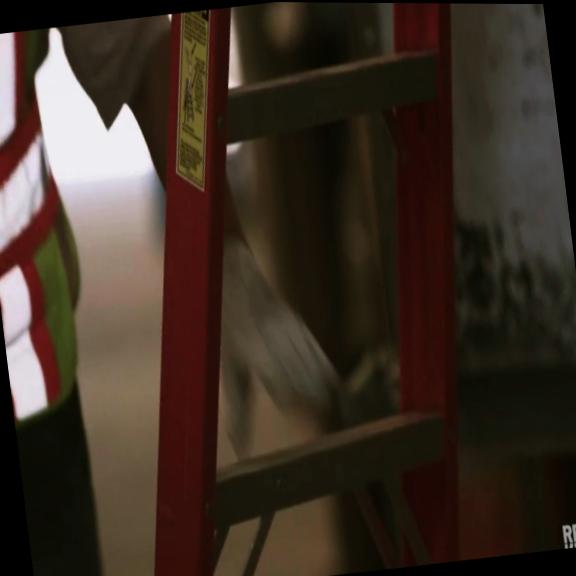safety_vest: (0, 27, 98, 434)
